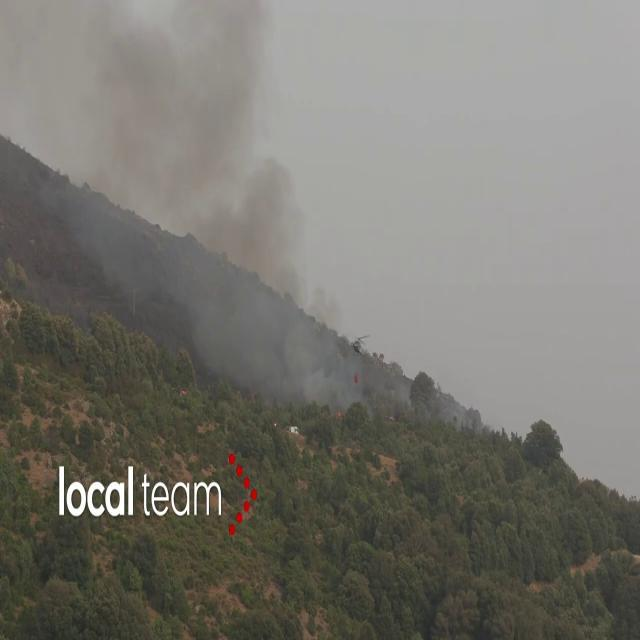Smoke: (54, 1, 350, 411)
